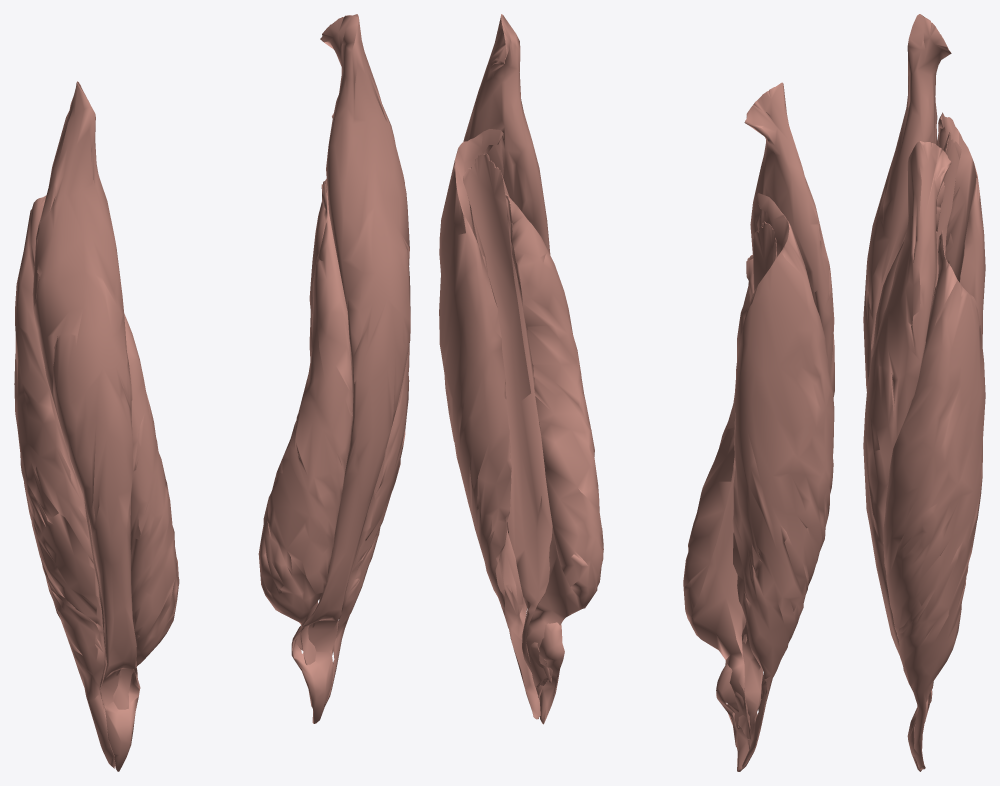
File: thighMuscles.glb
The picture shows the model from 3 angles, left to right: view 1: azimuth 30°, elevation 25°; view 2: azimuth 150°, elevation 25°; view 3: azimuth 270°, elevation 25°; orthographic projection. The views are drawn at different scales.
Visible parts, largest first — view 1: FJ1433_Right_rectus_femoris, FJ1433M_Left_rectus_femoris, FJ1443M_Left_vastus_medialis, FJ1442_Right_vastus_lateralis, FJ1443_Right_vastus_medialis, FJ1442M_Left_vastus_lateralis; view 2: FJ1442_Right_vastus_lateralis, FJ1442M_Left_vastus_lateralis, FJ1443M_Left_vastus_medialis, FJ1441M_Left_vastus_intermedius, FJ1443_Right_vastus_medialis, FJ1433_Right_rectus_femoris, FJ1433M_Left_rectus_femoris, FJ1441_Right_vastus_intermedius; view 3: FJ1442M_Left_vastus_lateralis, FJ1433M_Left_rectus_femoris, FJ1433_Right_rectus_femoris, FJ1442_Right_vastus_lateralis, FJ1441_Right_vastus_intermedius, FJ1443_Right_vastus_medialis.
Boxes of the visible parts, x1,y1,x2,y2 form: FJ1433_Right_rectus_femoris: (32,81,140,771); FJ1433M_Left_rectus_femoris: (291,14,410,723); FJ1443M_Left_vastus_medialis: (258,179,352,665); FJ1442_Right_vastus_lateralis: (14,195,115,768); FJ1443_Right_vastus_medialis: (113,314,179,709); FJ1442M_Left_vastus_lateralis: (309,113,409,706); FJ1442_Right_vastus_lateralis: (732,193,834,769); FJ1442M_Left_vastus_lateralis: (439,129,540,719); FJ1443M_Left_vastus_medialis: (505,194,603,687); FJ1441M_Left_vastus_intermedius: (463,153,552,685); FJ1443_Right_vastus_medialis: (683,254,754,739); FJ1433_Right_rectus_femoris: (716,82,834,771); FJ1433M_Left_rectus_femoris: (463,14,564,724); FJ1441_Right_vastus_intermedius: (734,221,776,734); FJ1442M_Left_vastus_lateralis: (883,233,985,769); FJ1433M_Left_rectus_femoris: (863,141,951,771); FJ1433_Right_rectus_femoris: (863,14,951,391); FJ1442_Right_vastus_lateralis: (937,112,985,345); FJ1441_Right_vastus_intermedius: (936,132,961,281); FJ1443_Right_vastus_medialis: (871,181,944,357).
Bounding box in the file's own units: 0.3193 × 0.5564 × 0.095.
